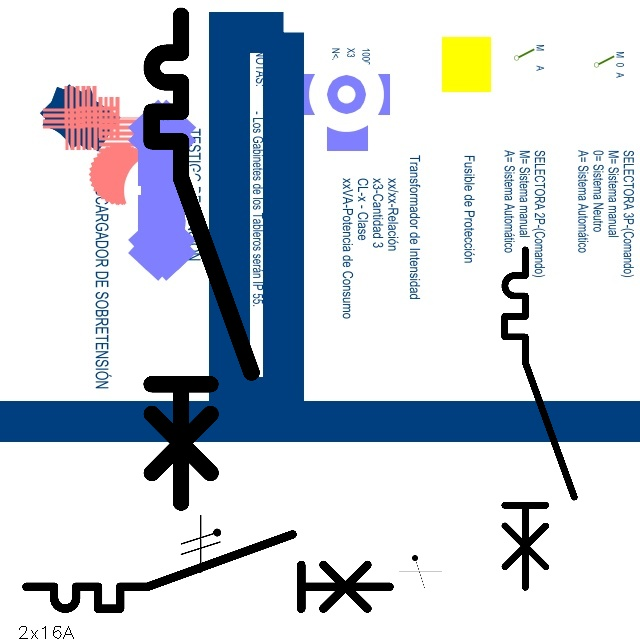interruptor_termomagnetico: (139, 3, 264, 515), (17, 525, 399, 618), (496, 241, 583, 596)
